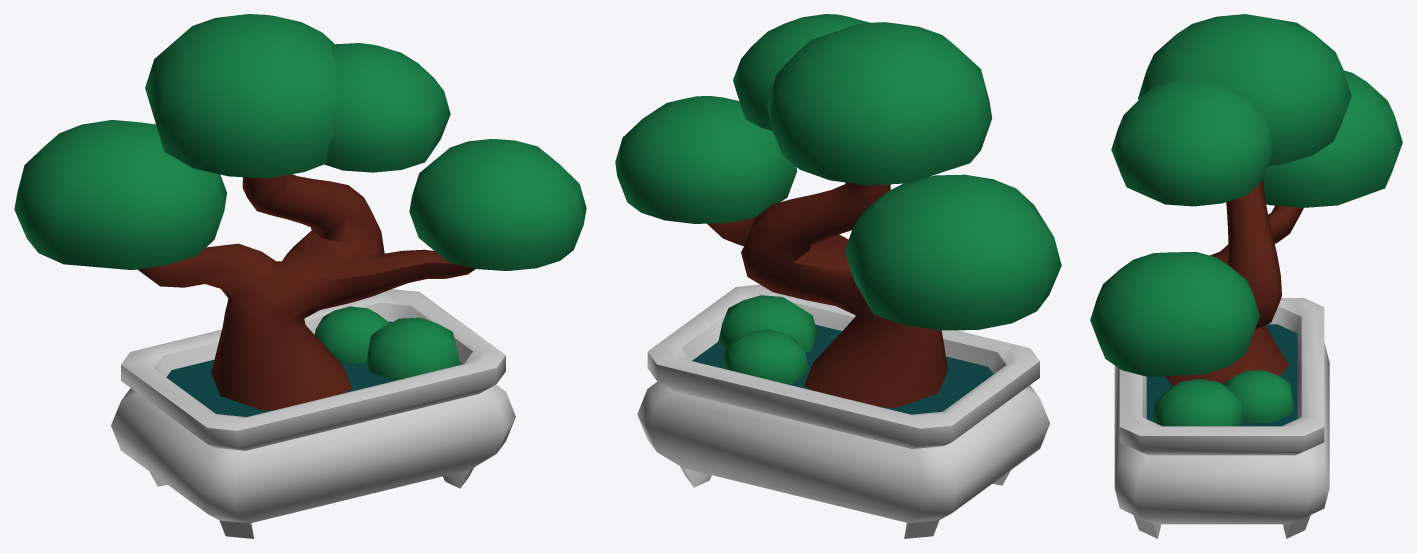
File: bonsai.obj
The picture shows the model from 3 angles, left to right: view 1: azimuth 30°, elevation 25°; view 2: azimuth 150°, elevation 25°; view 3: azimuth 270°, elevation 25°; orthographic projection. The views are drawn at different scales.
Visible parts, largest first — view 1: bonsai_Cube.140; view 2: bonsai_Cube.140; view 3: bonsai_Cube.140.
Boxes of the visible parts, bbox=[...] form: bonsai_Cube.140: bbox=[14, 14, 586, 538]; bonsai_Cube.140: bbox=[615, 14, 1061, 538]; bonsai_Cube.140: bbox=[1090, 14, 1402, 538].
Size of the model in its own units: 1.36 by 1.26 by 0.8193.
